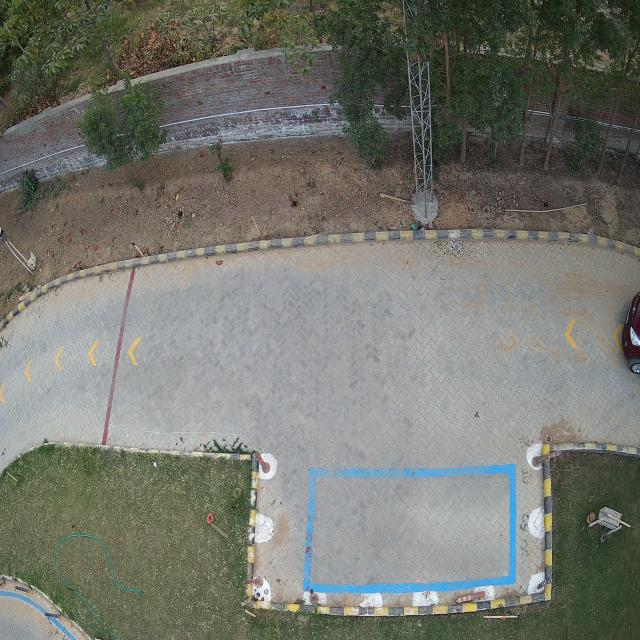car: (621, 289, 640, 377)
